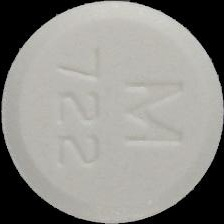43353-946: (0, 0, 224, 224)
